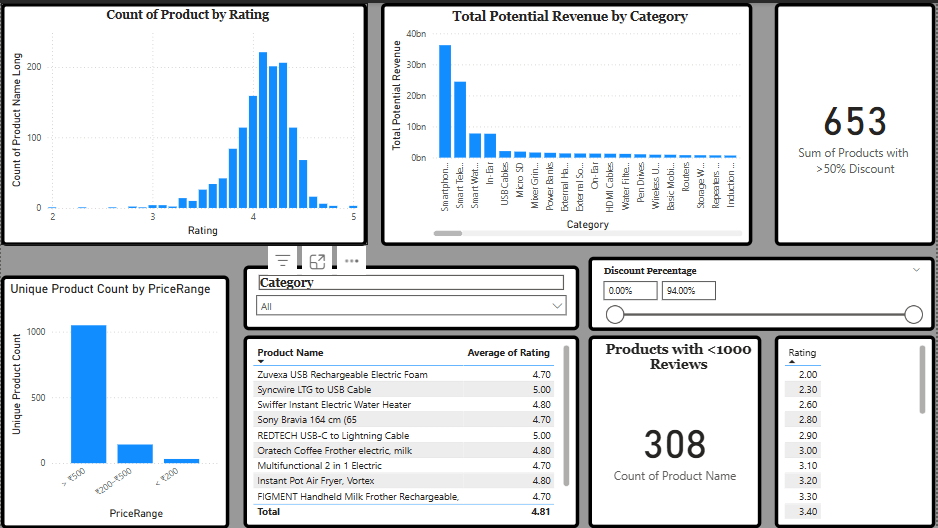

What the dashboard file says about the page in this screenshot:
{"tool":"powerbi","page":{"name":"Page 2","canvas":[1280,720],"ordinal":1},"visuals":[{"type":"tableEx","fields":{"Values":["amazon (3).Product Name Short","Avg(amazon (3).Rating)"]},"box":[331.4,455.7,460,264.3],"z":0},{"type":"card","fields":{"Values":["Sum(amazon (3).Discount_50_or_More)"]},"box":[1060,0,220,332.9],"z":1000},{"type":"slicer","fields":{"Values":["amazon (3).Category"]},"box":[331.4,360,460,88.6],"z":1000},{"type":"clusteredColumnChart","title":"Total Potential Revenue by Category","fields":{"Category":["amazon (3).Category"],"Y":["amazon (3).TotalPotentialRevenue"]},"box":[520,0,508.6,332.9],"z":3000},{"type":"clusteredColumnChart","fields":{"Category":["amazon (3).PriceRange"],"Y":["amazon (3).UniqueProductCount"]},"box":[0,372.9,312.9,347.1],"z":4000},{"type":"slicer","fields":{"Values":["amazon (3).Discount Percentage"]},"box":[805.7,347.1,474.3,101.4],"z":4001},{"type":"tableEx","fields":{"Values":["amazon (3).Rating"]},"box":[1060,455.7,220,264.3],"z":4002},{"type":"card","title":"Products with <1000 Reviews","fields":{"Values":["CountNonNull(amazon (3).Product Name)"]},"box":[805.7,455.7,237.1,264.3],"z":4003},{"type":"clusteredColumnChart","title":"Count of Product by Rating","fields":{"Category":["amazon (3).Rating"],"Y":["CountNonNull(amazon (3).Product Name)"]},"box":[0,0,501.4,332.9],"z":4004}]}

Visuals, with their boxes in screenshot pixels (x1, y1, x2, y2), scaled from the page's 1280x720 canvas onto the 938x528 screenshot:
tableEx - amazon (3).Product Name Short x Avg(amazon (3).Rating): [243, 334, 580, 527]
card - Sum(amazon (3).Discount_50_or_More): [777, 0, 937, 244]
slicer - amazon (3).Category: [243, 264, 580, 329]
"Total Potential Revenue by Category" clusteredColumnChart: [381, 0, 754, 244]
clusteredColumnChart - amazon (3).PriceRange x amazon (3).UniqueProductCount: [0, 273, 229, 527]
slicer - amazon (3).Discount Percentage: [590, 255, 937, 329]
tableEx - amazon (3).Rating: [777, 334, 937, 527]
"Products with <1000 Reviews" card: [590, 334, 764, 527]
"Count of Product by Rating" clusteredColumnChart: [0, 0, 367, 244]
